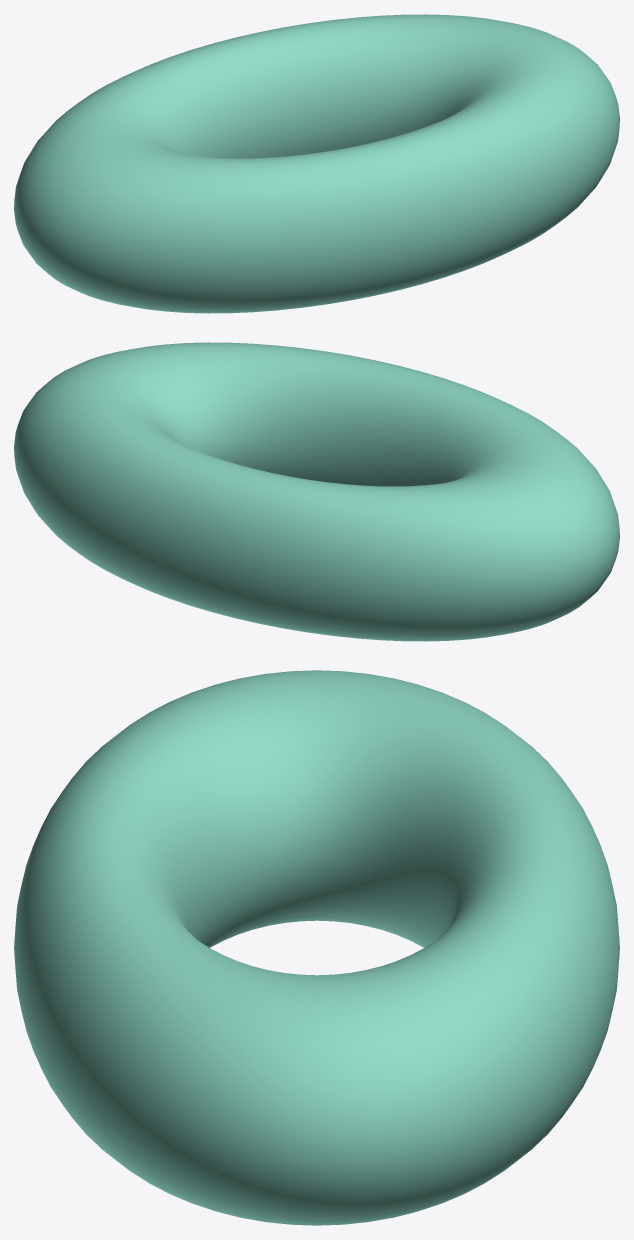
The model's file is Donut.obj.
The picture shows the model from 3 angles, top to bottom: view 1: azimuth 30°, elevation 25°; view 2: azimuth 150°, elevation 25°; view 3: azimuth 270°, elevation 25°; orthographic projection. The views are drawn at different scales.
Visible parts, largest first — view 1: 000_Torus; view 2: 000_Torus; view 3: 000_Torus.
Part boxes in pixels (box(x1,y1,x2,y2)): 000_Torus: box(14, 14, 619, 313); 000_Torus: box(14, 342, 619, 641); 000_Torus: box(14, 670, 619, 1225).
Size of the model in its own units: 250 by 60 by 150.
